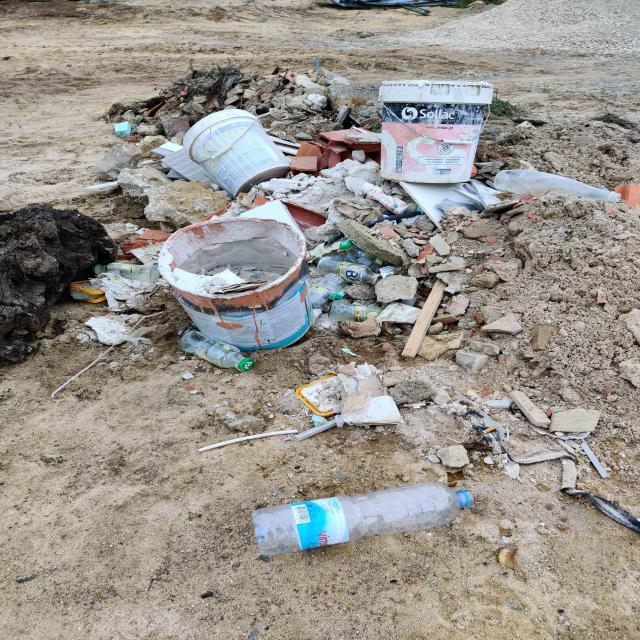litter: (246, 474, 461, 563), (176, 325, 249, 370), (317, 252, 381, 282)
